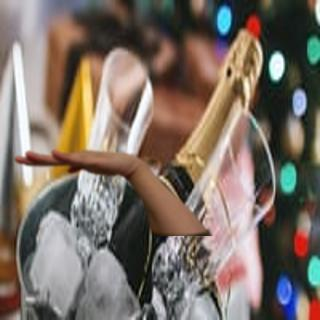WAIT: (12, 142, 144, 180)
